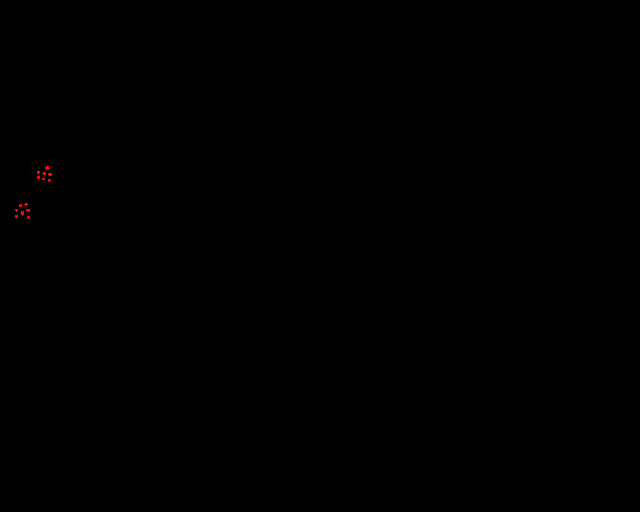Target: (45, 166, 50, 170), (20, 211, 24, 216), (42, 172, 46, 175), (48, 173, 52, 176), (37, 175, 40, 179), (24, 203, 28, 206), (26, 209, 30, 212), (37, 171, 40, 174), (48, 179, 51, 182), (19, 204, 22, 207), (15, 209, 18, 212), (15, 215, 18, 218), (27, 216, 30, 219), (42, 178, 45, 180)
